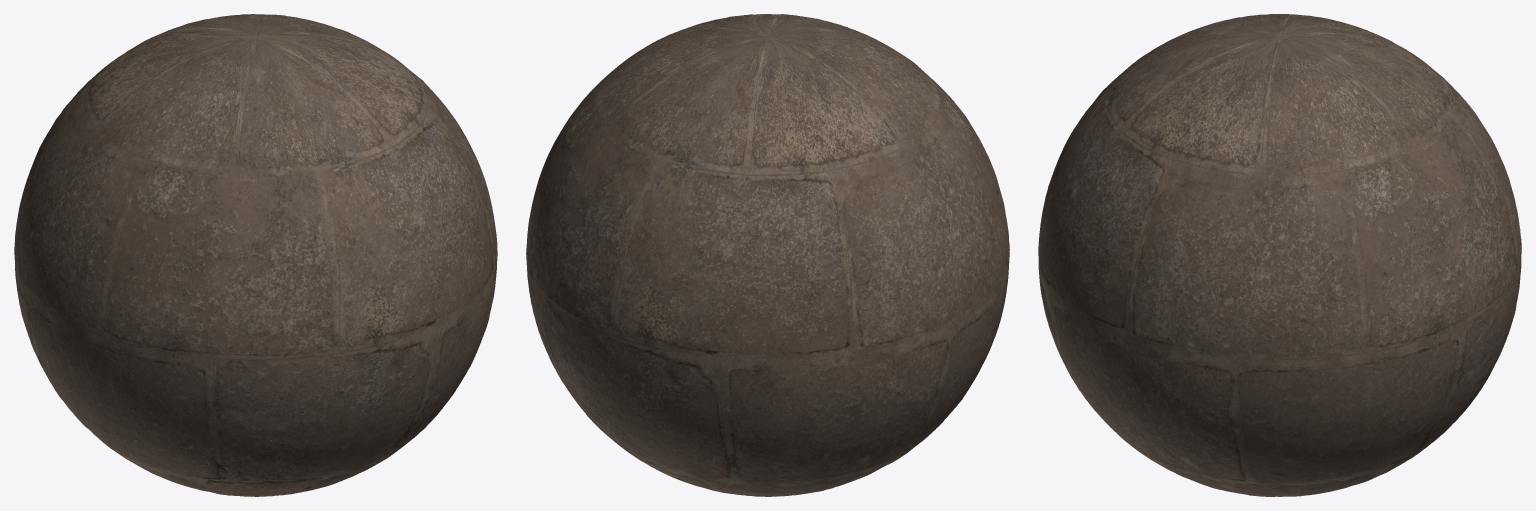
The model's file is stone_pavers_1k.gltf.
The picture shows the model from 3 angles, left to right: view 1: azimuth 30°, elevation 25°; view 2: azimuth 150°, elevation 25°; view 3: azimuth 270°, elevation 25°; orthographic projection.
Visible parts, largest first — view 1: sphere_gltf; view 2: sphere_gltf; view 3: sphere_gltf.
Boxes of the visible parts, box(x1,y1,x2,y2) form: sphere_gltf: box(14, 14, 497, 496); sphere_gltf: box(526, 14, 1009, 496); sphere_gltf: box(1038, 14, 1521, 496).
Size of the model in its own units: 2 by 2.01 by 2.
1 material, 1 textured.
